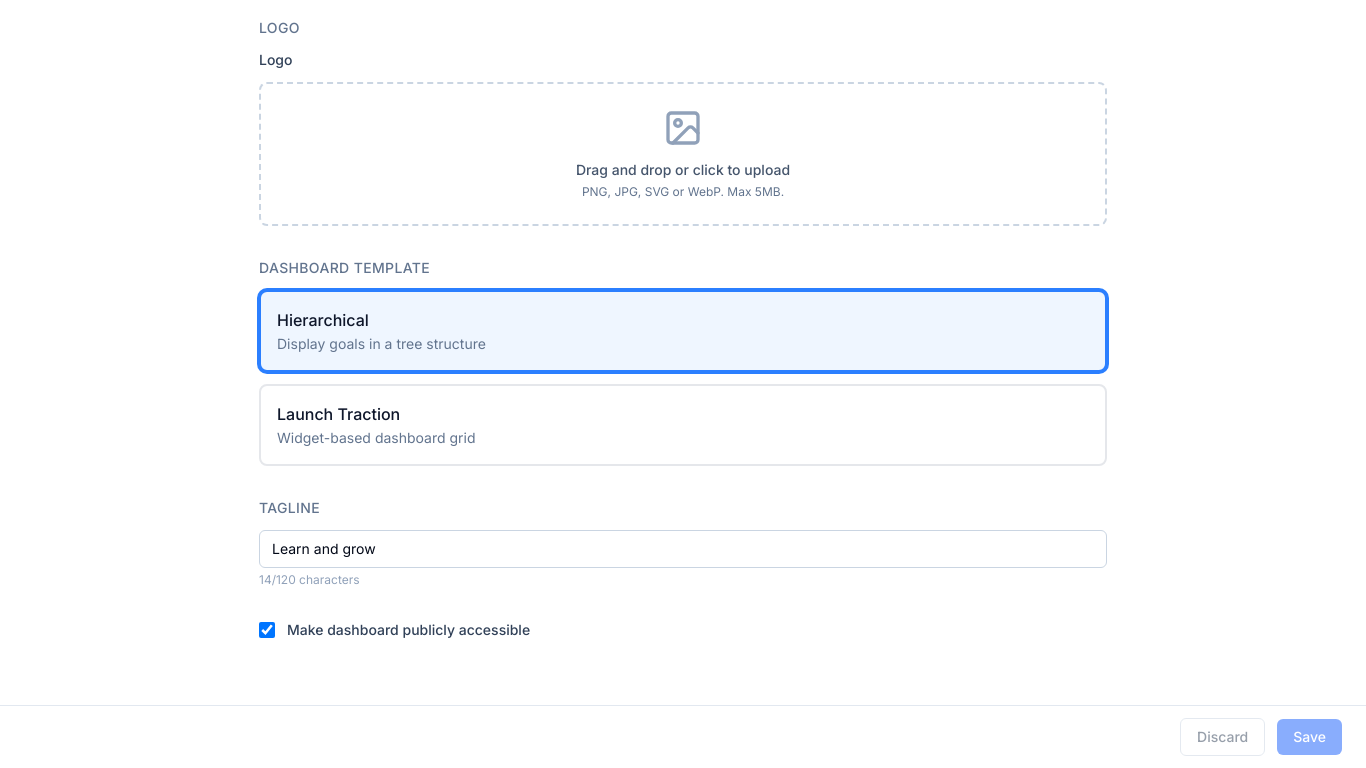
V2Appearance › discard resets form
(page scrolled)
Make a change
Clear the field with test id "tagline-input": (683, 548) x1=259 y1=530 x2=1107 y2=568
(page scrolled)
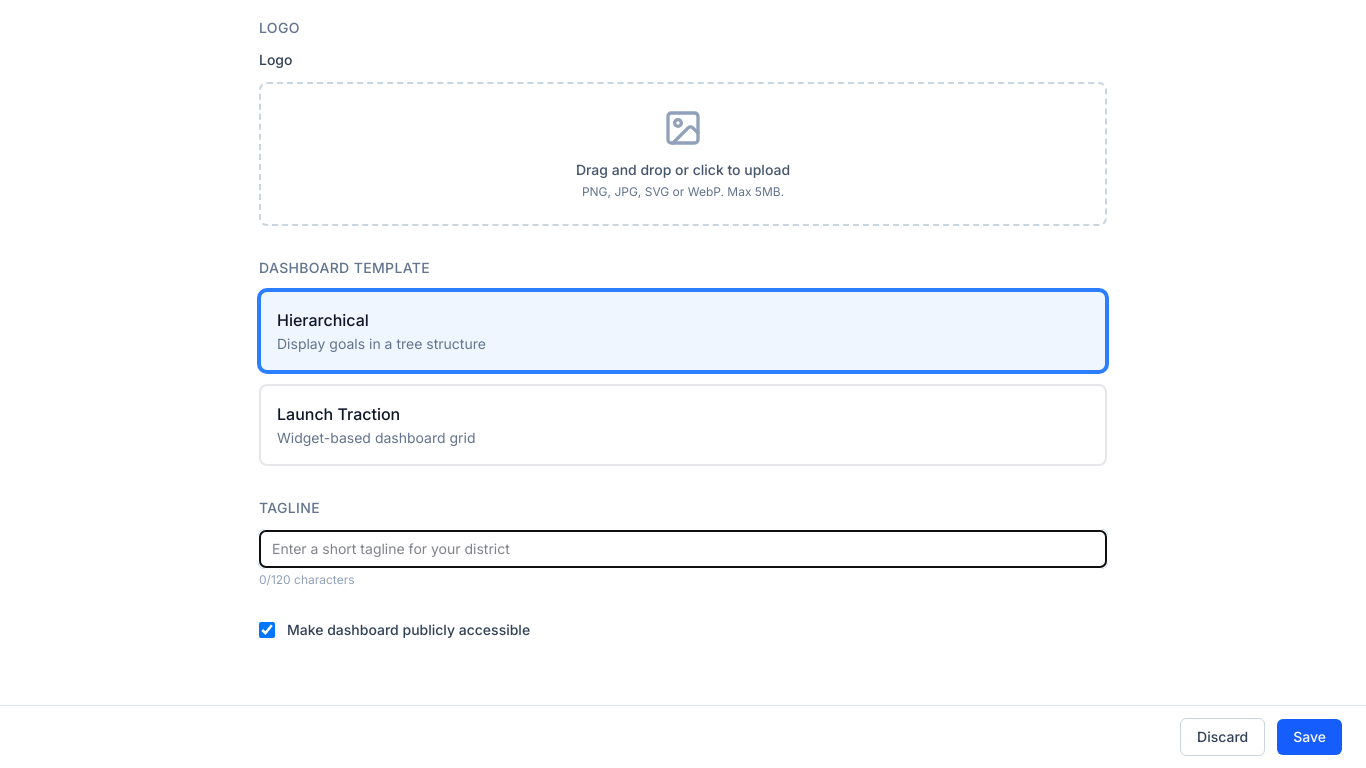
In the field with test id "tagline-input": (683, 549) x1=259 y1=530 x2=1107 y2=568, type "Changed"
(page scrolled)
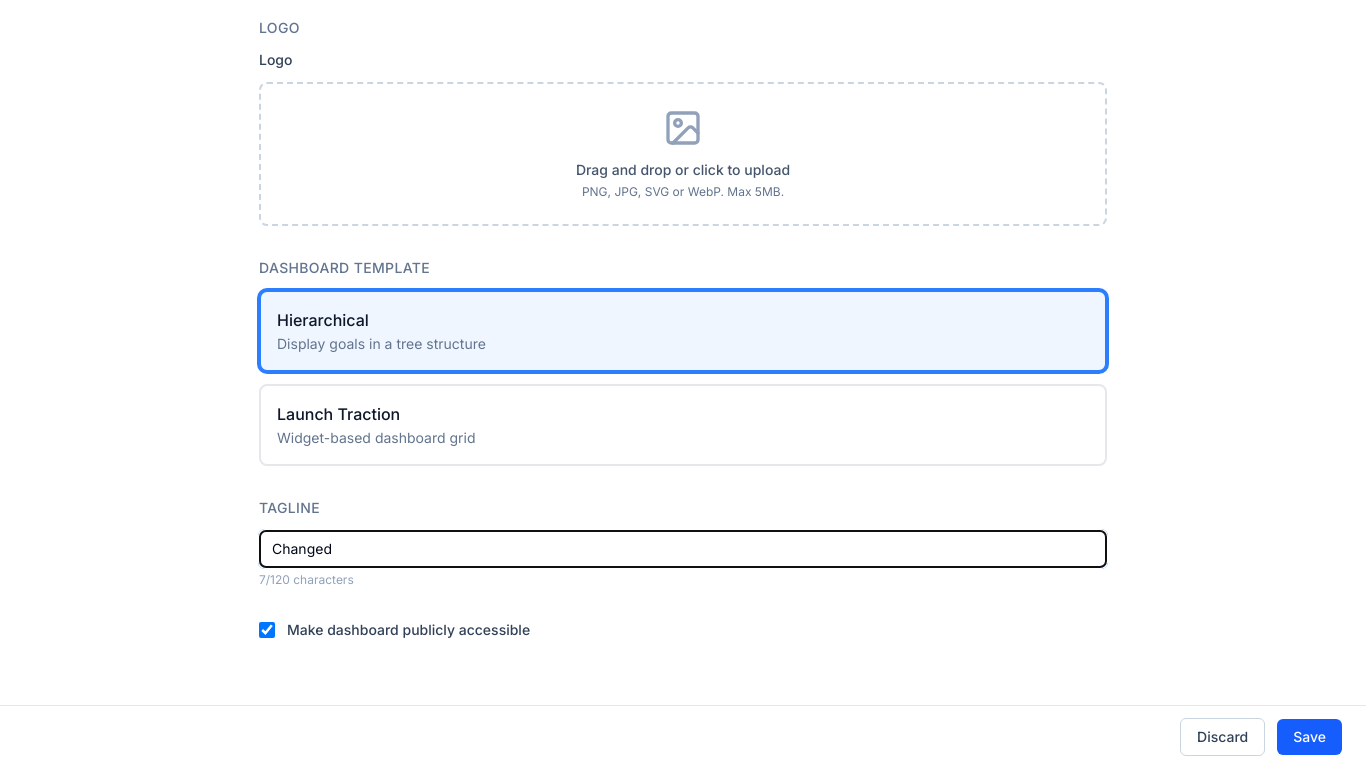
Click discard
Click the button "Discard": (1223, 737) x1=1180 y1=718 x2=1265 y2=756
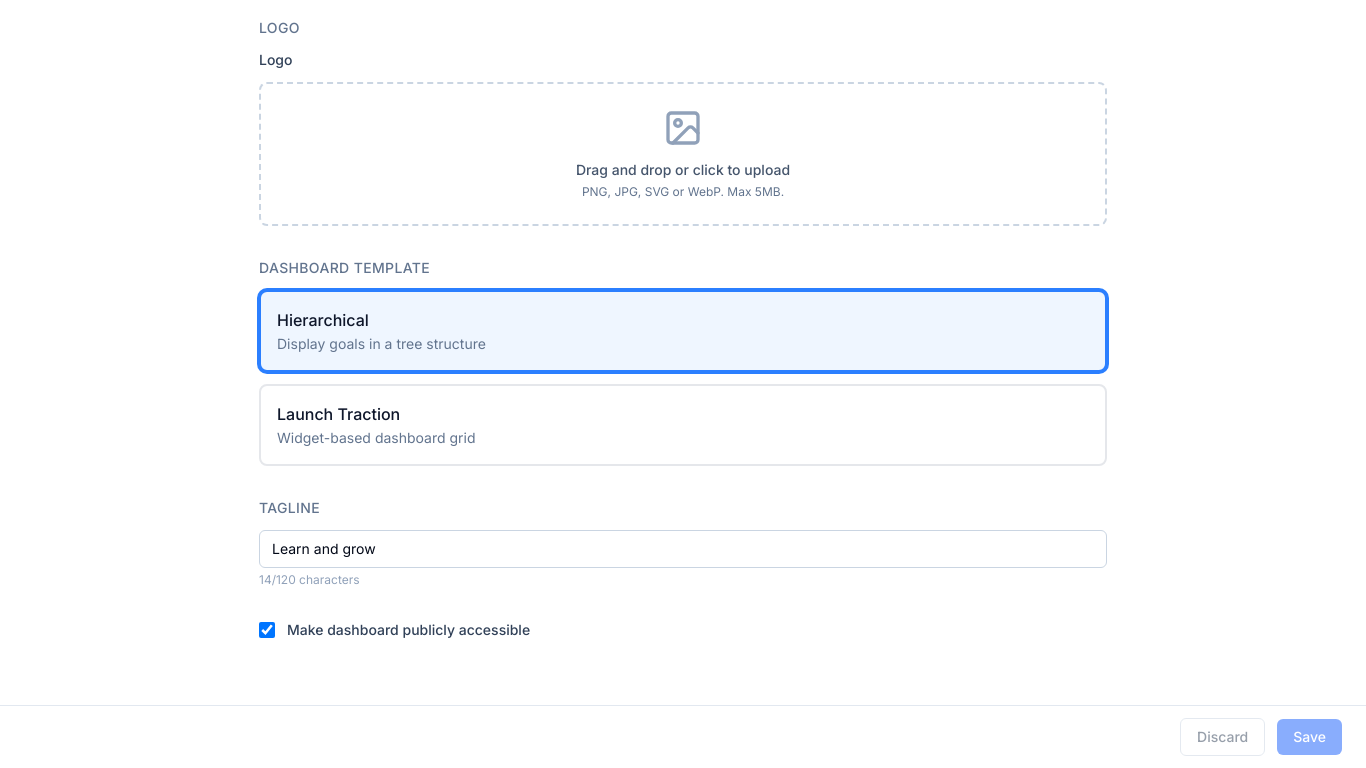
Result: the field with test id "tagline-input" holds "Learn and grow" at x1=259 y1=530 x2=1107 y2=568
